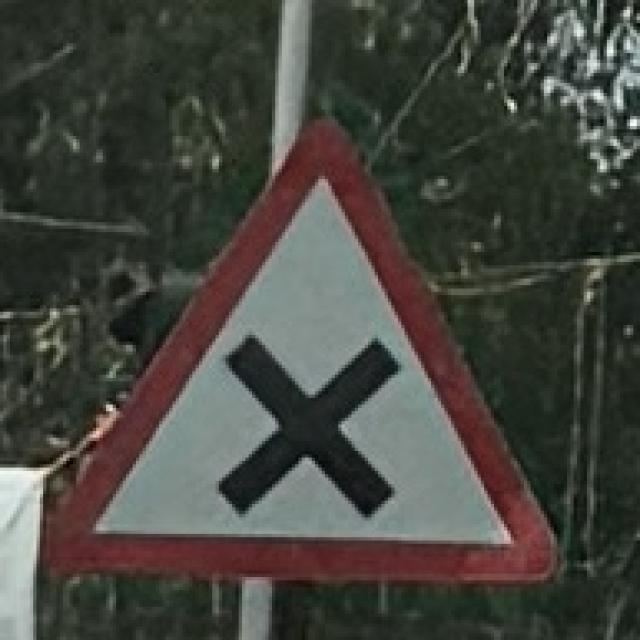CROSS_ROAD: (33, 102, 579, 590)
